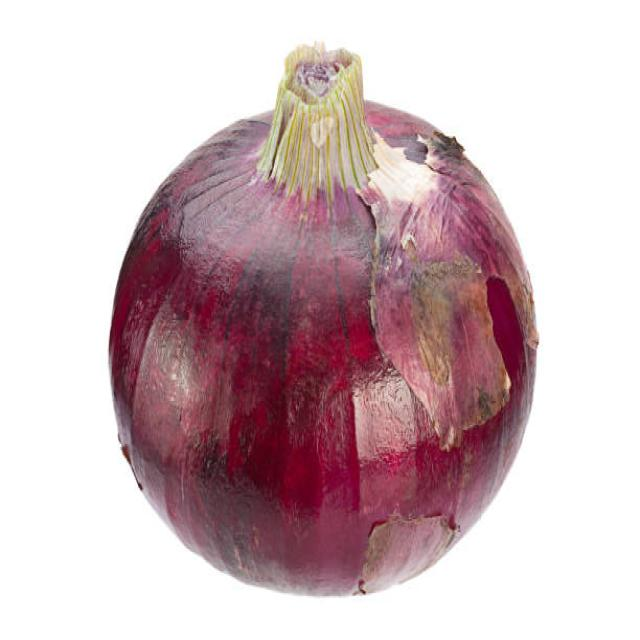onion: (102, 82, 542, 590)
